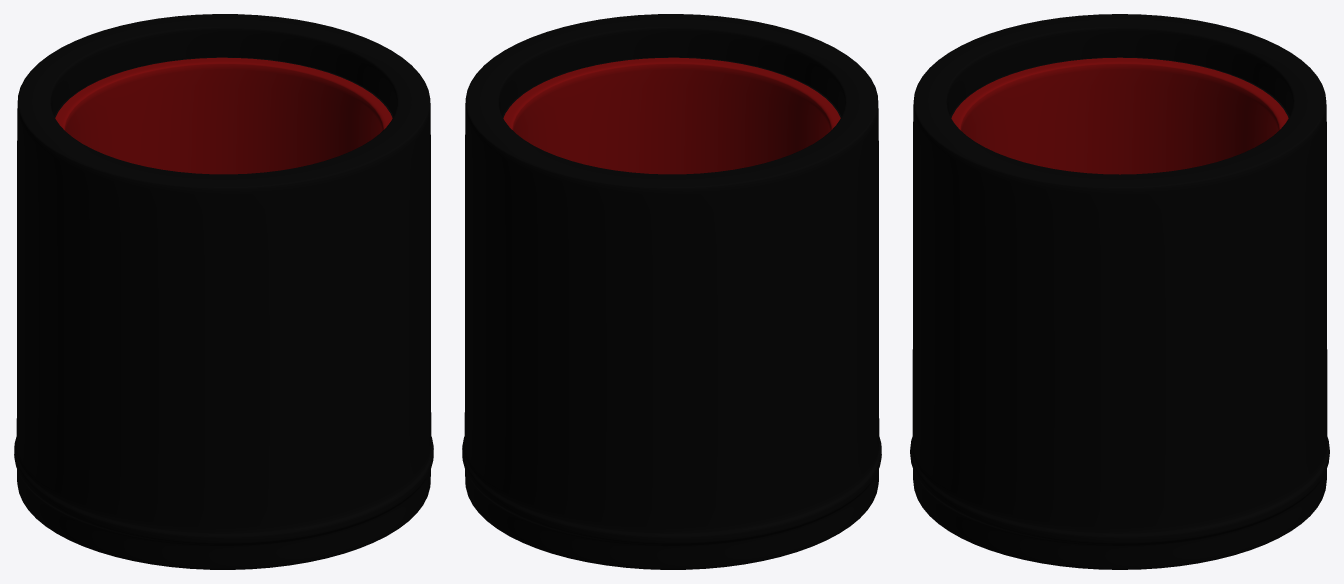
Rendered from dice_cup_high.FBX.
3 views of the same model, side by side, from view 1: azimuth 30°, elevation 25°; view 2: azimuth 150°, elevation 25°; view 3: azimuth 270°, elevation 25° (orthographic).
Visible parts, largest first — view 1: Dice_Cup_High; view 2: Dice_Cup_High; view 3: Dice_Cup_High.
Part boxes in pixels (x1,y1,x2,y2): Dice_Cup_High: (14,14,433,569); Dice_Cup_High: (462,14,881,569); Dice_Cup_High: (910,14,1329,569).
Bounding box in the file's own units: 3.02 × 3.05 × 3.02.
